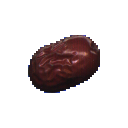gd: (21, 23, 118, 106)
